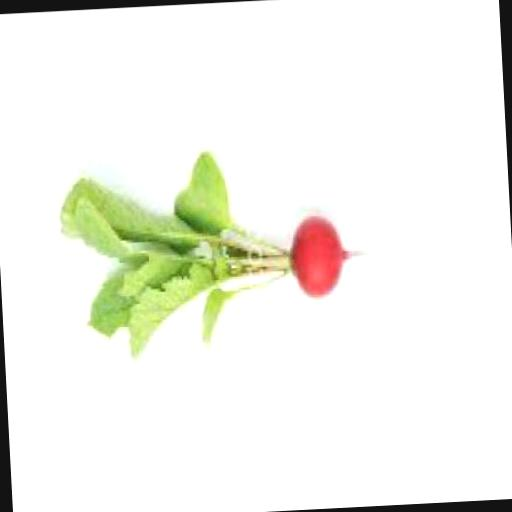biodegradable: (56, 152, 292, 363), (286, 215, 370, 300)
